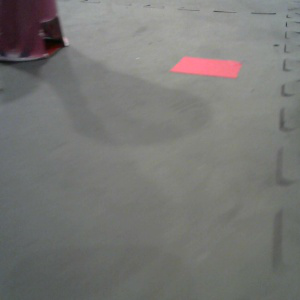middle: (1, 1, 69, 61)
